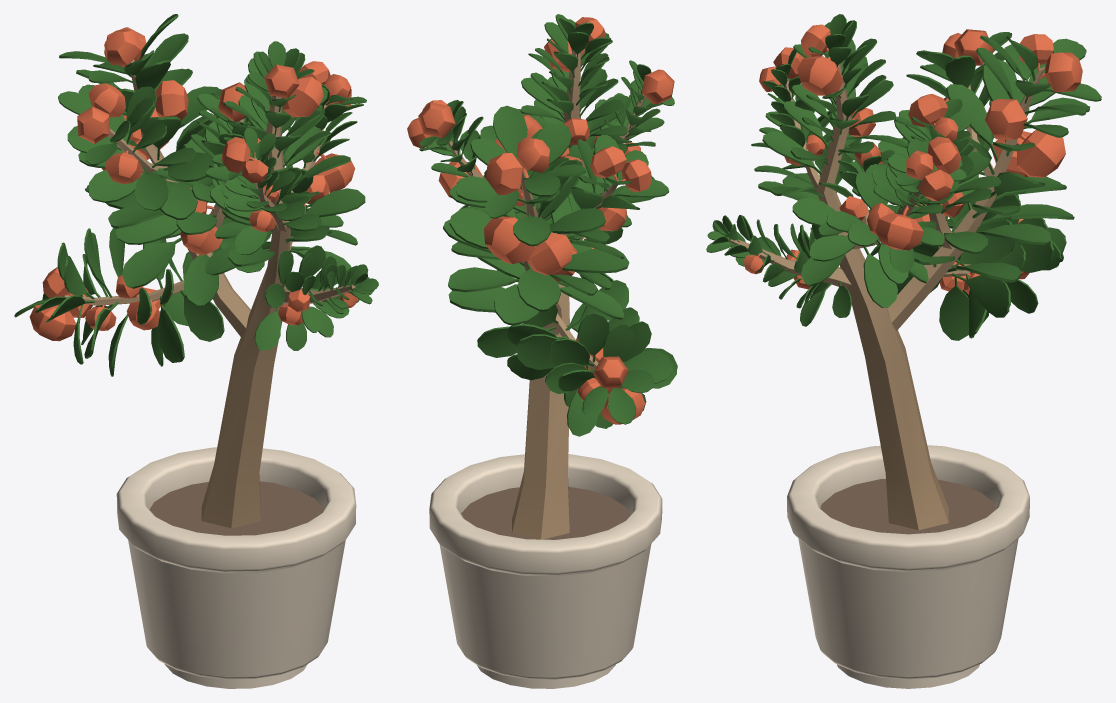
Rendered from tangerine tree.fbx.
3 views of the same model, side by side, from view 1: azimuth 30°, elevation 25°; view 2: azimuth 150°, elevation 25°; view 3: azimuth 270°, elevation 25° (orthographic). The views are drawn at different scales.
Visible parts, largest first — view 1: pot1, pCylinder2, pCylinder3, newleaf50, newleaf46, newleaf90, newleaf95, orange19, orange34, newleaf177, orange10, newleaf79 (+27 smaller); view 2: pot1, pCylinder2, orange7, newleaf56, orange6, newleaf52, orange9, newleaf71, newleaf55, newleaf57, newleaf51, newleaf42 (+42 smaller); view 3: pot1, pCylinder2, pCylinder3, orange7, orange29, orange34, orange10, newleaf45, newleaf280, orange9, newleaf61, newleaf131 (+26 smaller).
Boxes of the visible parts, box(x1,y1,x2,y2) form: pot1: box(116, 447, 356, 688); pCylinder2: box(201, 95, 290, 528); pCylinder3: box(129, 59, 250, 337); newleaf50: box(122, 237, 181, 288); newleaf46: box(180, 290, 224, 341); newleaf90: box(184, 254, 218, 305); newleaf95: box(115, 215, 178, 244); orange19: box(29, 304, 76, 341); orange34: box(282, 76, 323, 117); newleaf177: box(304, 188, 365, 217); orange10: box(155, 80, 188, 120); newleaf79: box(134, 167, 168, 210); pot1: box(429, 454, 662, 688); pCylinder2: box(512, 49, 585, 539); orange7: box(484, 216, 535, 263); newleaf56: box(517, 263, 560, 311); orange6: box(527, 233, 573, 275); newleaf52: box(448, 267, 519, 292); orange9: box(485, 153, 522, 194); newleaf71: box(493, 105, 527, 163); newleaf55: box(562, 248, 629, 273); newleaf57: box(449, 208, 491, 249); newleaf51: box(494, 284, 540, 325); newleaf42: box(516, 334, 559, 369); pot1: box(787, 445, 1029, 688); pCylinder2: box(816, 60, 948, 530); pCylinder3: box(887, 67, 1044, 330); orange7: box(1017, 130, 1065, 177); orange29: box(875, 205, 923, 250); orange34: box(797, 56, 843, 95); orange10: box(985, 99, 1027, 139); newleaf45: box(951, 273, 1010, 317); newleaf280: box(939, 277, 968, 340); orange9: box(1040, 52, 1082, 91); newleaf61: box(946, 84, 998, 161); newleaf131: box(863, 246, 897, 307).
Bounding box in the file's own units: 3.18 × 6.72 × 3.76.
